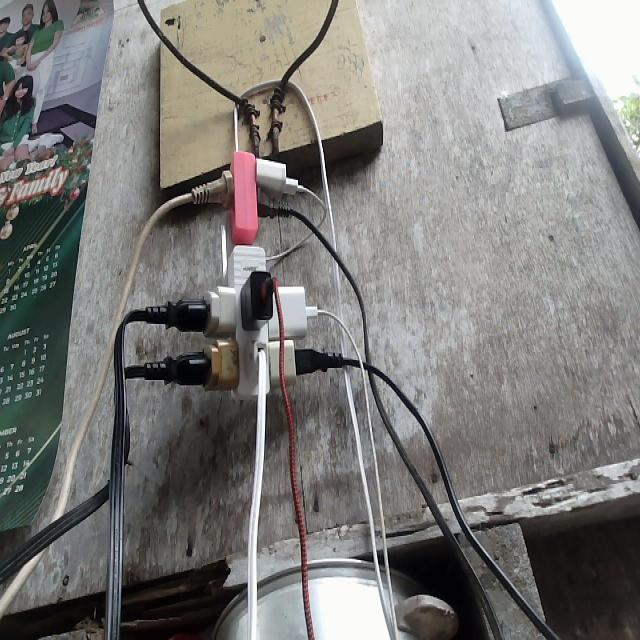-: (154, 147, 328, 405)
